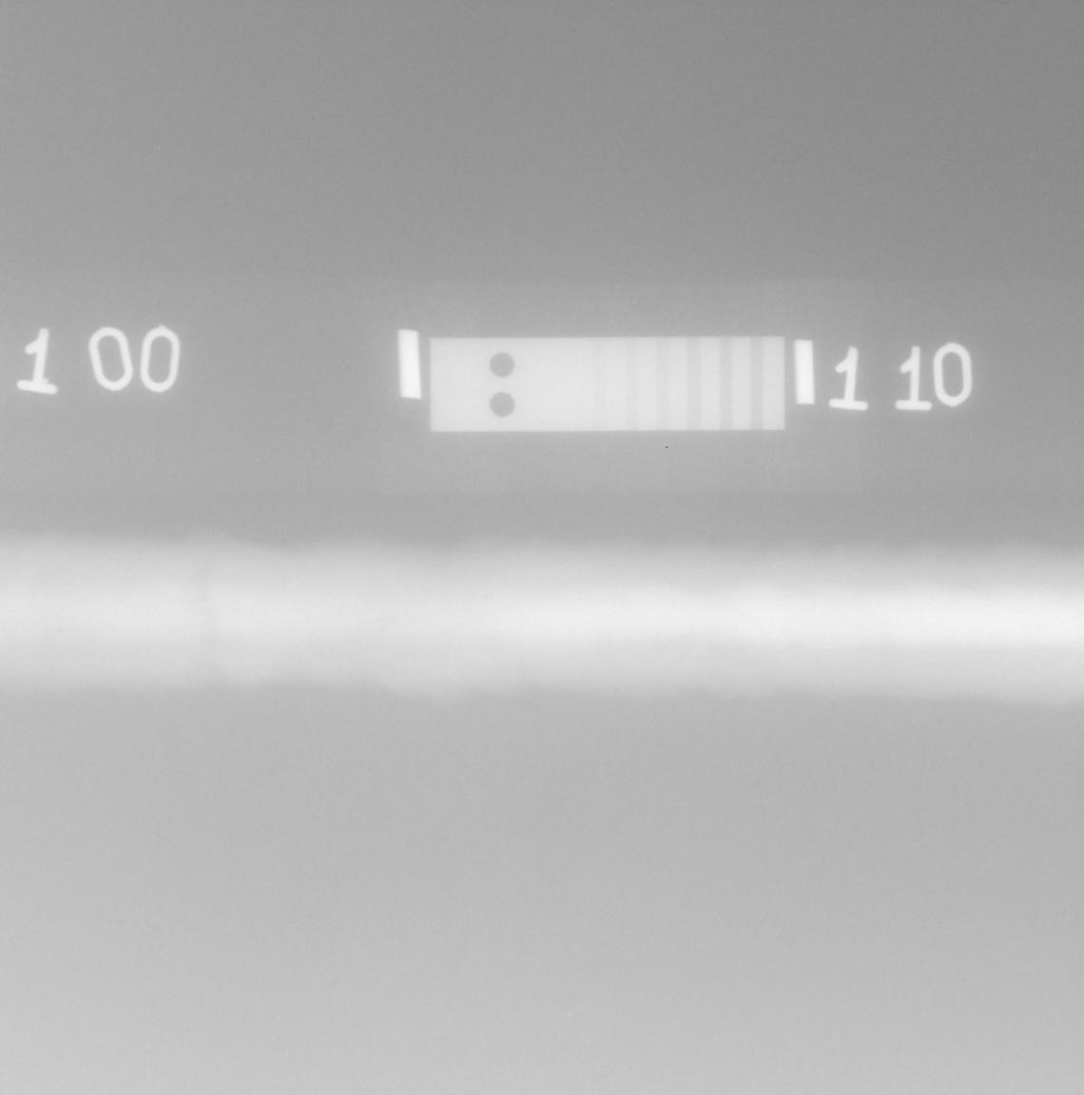Pore/Porosity: (482, 594, 490, 603), (56, 627, 64, 634)
Reference Standard 2: (430, 336, 785, 432)
